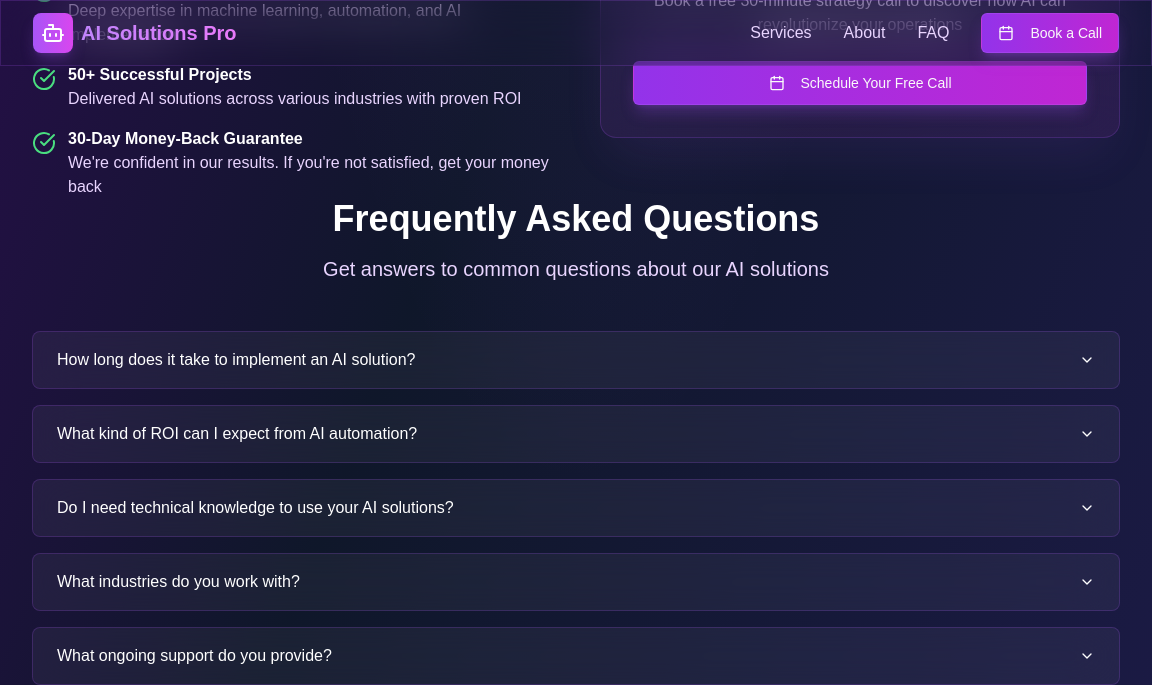
Test: Landing Page › FAQ Section › has expandable FAQ items
This screenshot has width=1152, height=685.
(page scrolled)
Click the button "How long does it take to implement an AI solution?". click: (236, 360)
box: x1=57 y1=332 x2=1095 y2=388
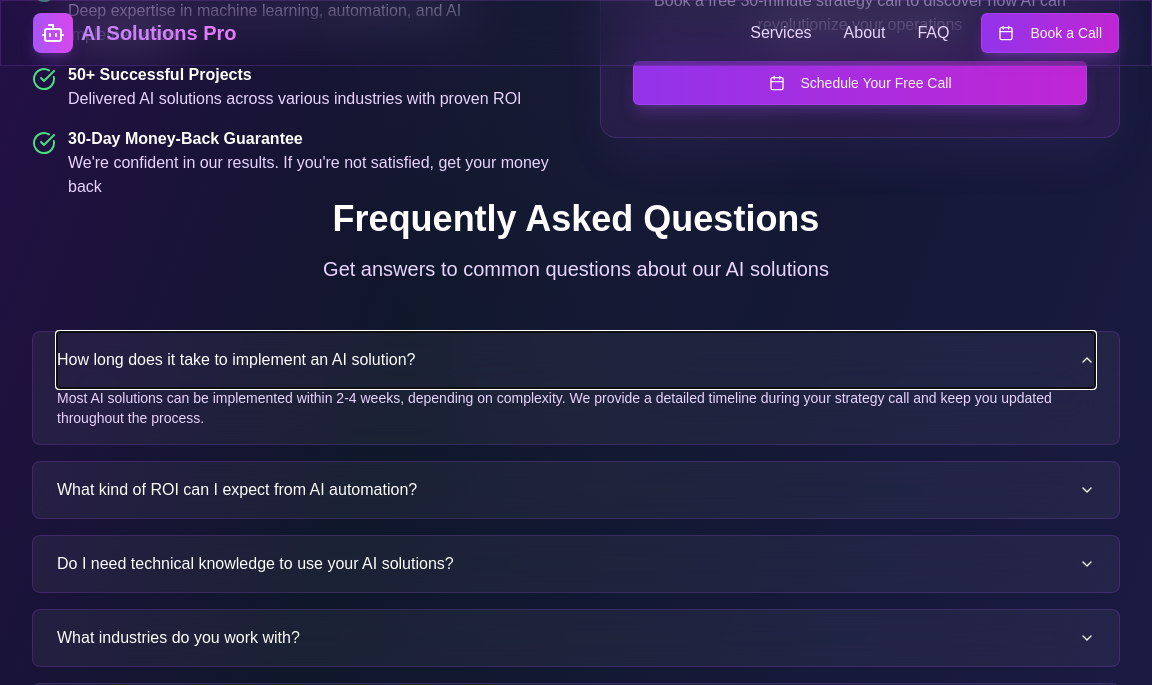
expect the text "Most AI solutions can be implemented within 2-4 weeks" is shown: met, box x1=57 y1=390 x2=1052 y2=426
